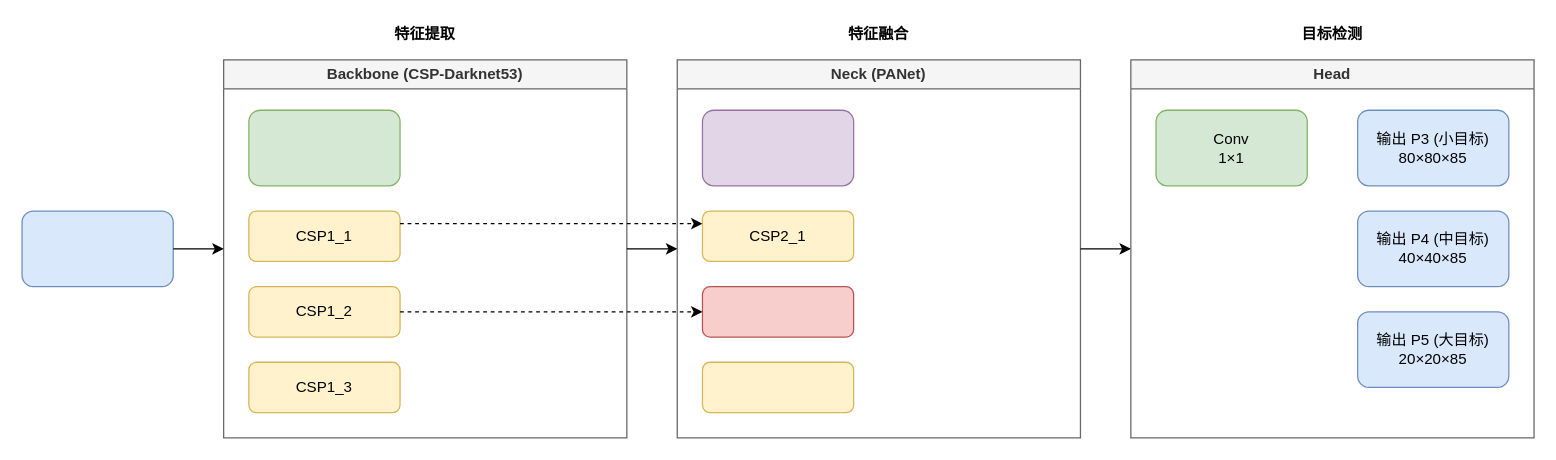
Some shapes in this 1556 by 460 pixel diagram are drawn without their labels. Here are the shapes that lost their labels. From the top down, the centre of each, then its label:
At (324,147): "Focus Layer 切片+拼接".
At (777,147): "SPP 空间金字塔池化".
At (97,248): "输入图像 640×640×3".
At (777,311): "上采样".
At (777,387): "CSP2_2".
